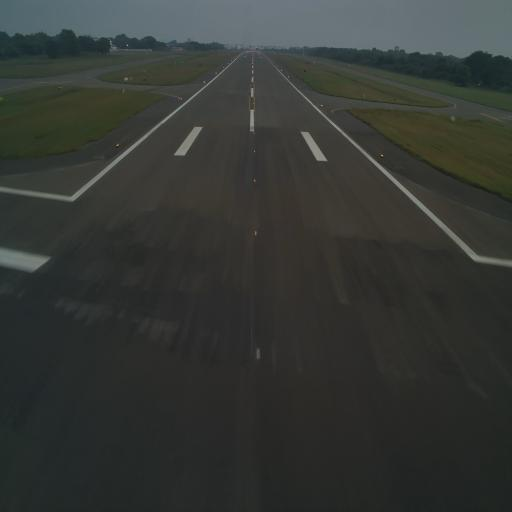on: (253, 342, 262, 364), (253, 228, 259, 239), (252, 176, 258, 185), (115, 141, 121, 149), (379, 151, 385, 159), (252, 146, 256, 154), (252, 129, 256, 137), (180, 96, 184, 104), (320, 102, 323, 110), (253, 118, 255, 123), (253, 108, 255, 113)
